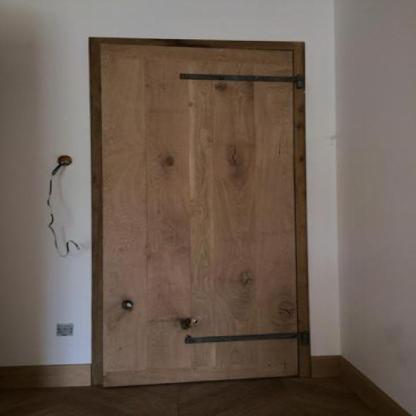door: (78, 26, 314, 395)
